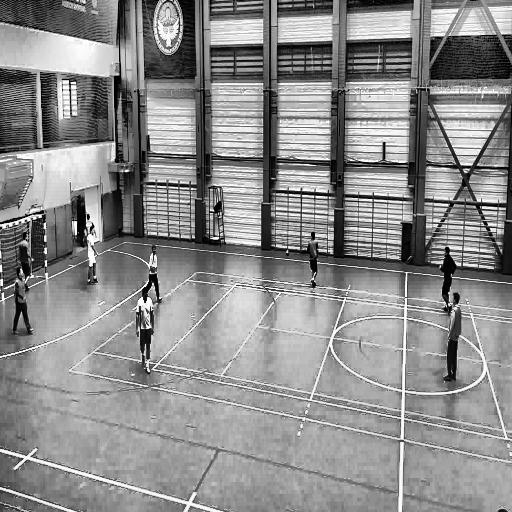ball: (284, 248, 292, 260)
player: (443, 289, 462, 387), (10, 264, 34, 337), (137, 289, 153, 377), (436, 244, 456, 310), (143, 241, 162, 303), (85, 228, 100, 288), (306, 229, 320, 291), (19, 228, 33, 290), (82, 214, 97, 253)
